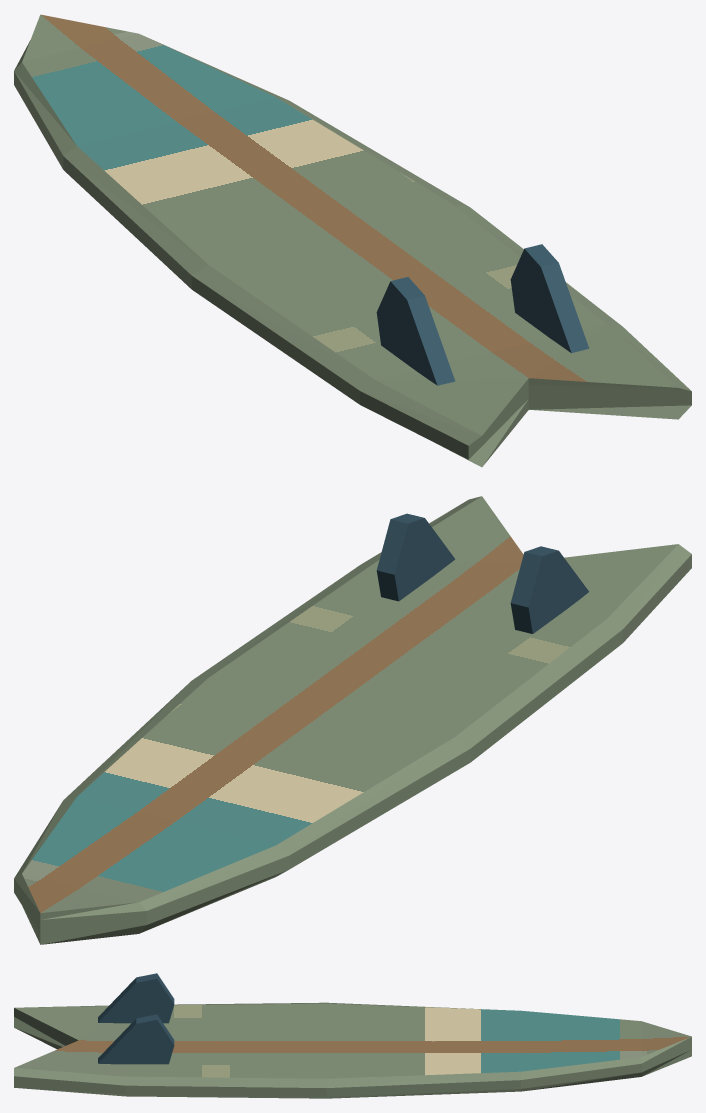
File: surf-fish.glb
3 views of the same model, one above another, from view 1: azimuth 30°, elevation 25°; view 2: azimuth 150°, elevation 25°; view 3: azimuth 270°, elevation 25° (orthographic). The views are drawn at different scales.
Parts seen in each view (by area): view 1: surf-fish; view 2: surf-fish; view 3: surf-fish.
Boxes of the visible parts, left/top/right/bottom form: surf-fish: left=14, top=14, right=691, bottom=467; surf-fish: left=14, top=496, right=691, bottom=944; surf-fish: left=14, top=973, right=691, bottom=1098.
Size of the model in its own units: 0.562 by 0.198 by 1.89.
1 material, 1 textured.
